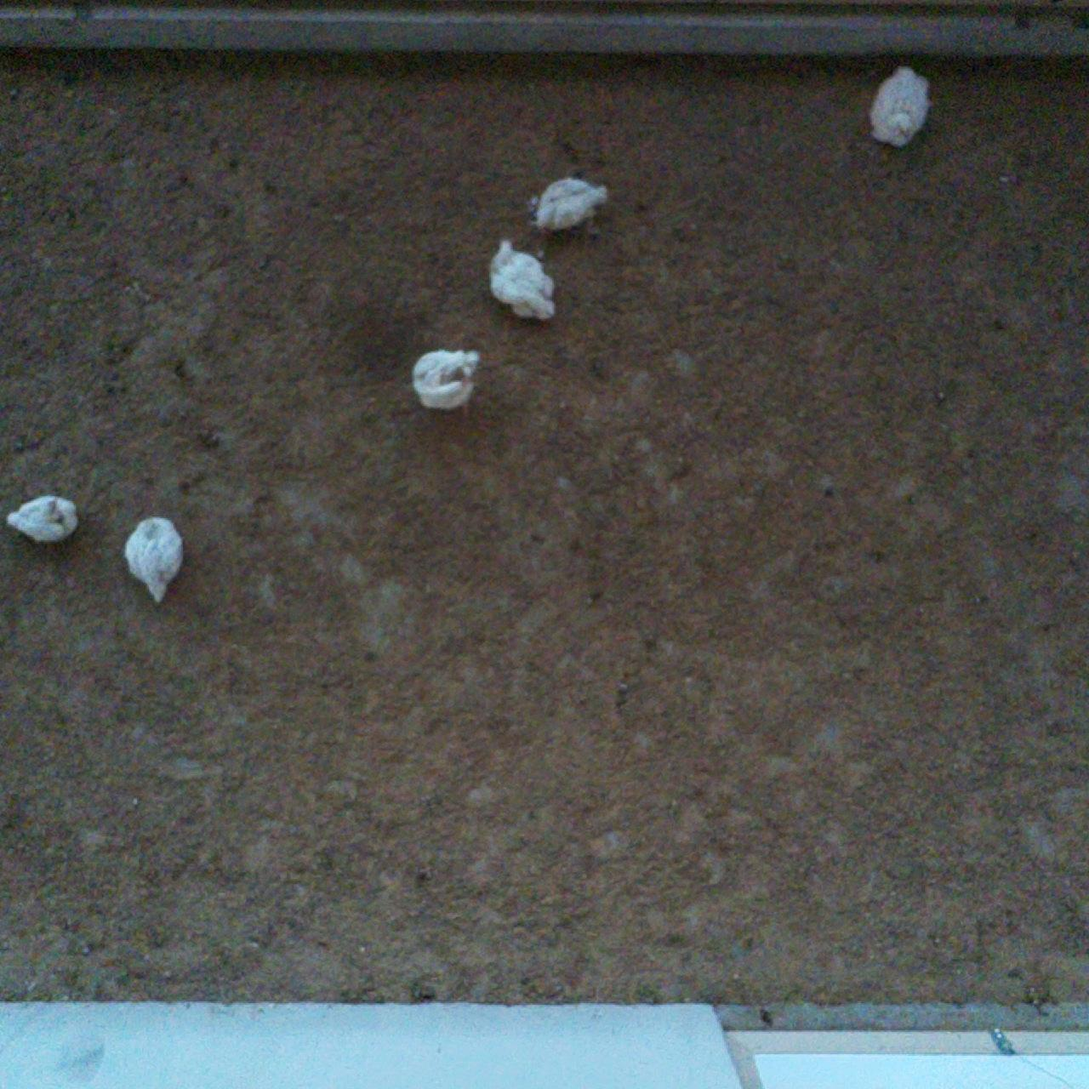chicken: (490, 240, 556, 321), (126, 517, 182, 602), (871, 66, 930, 146), (413, 351, 479, 413), (536, 177, 609, 233), (8, 495, 80, 547)
